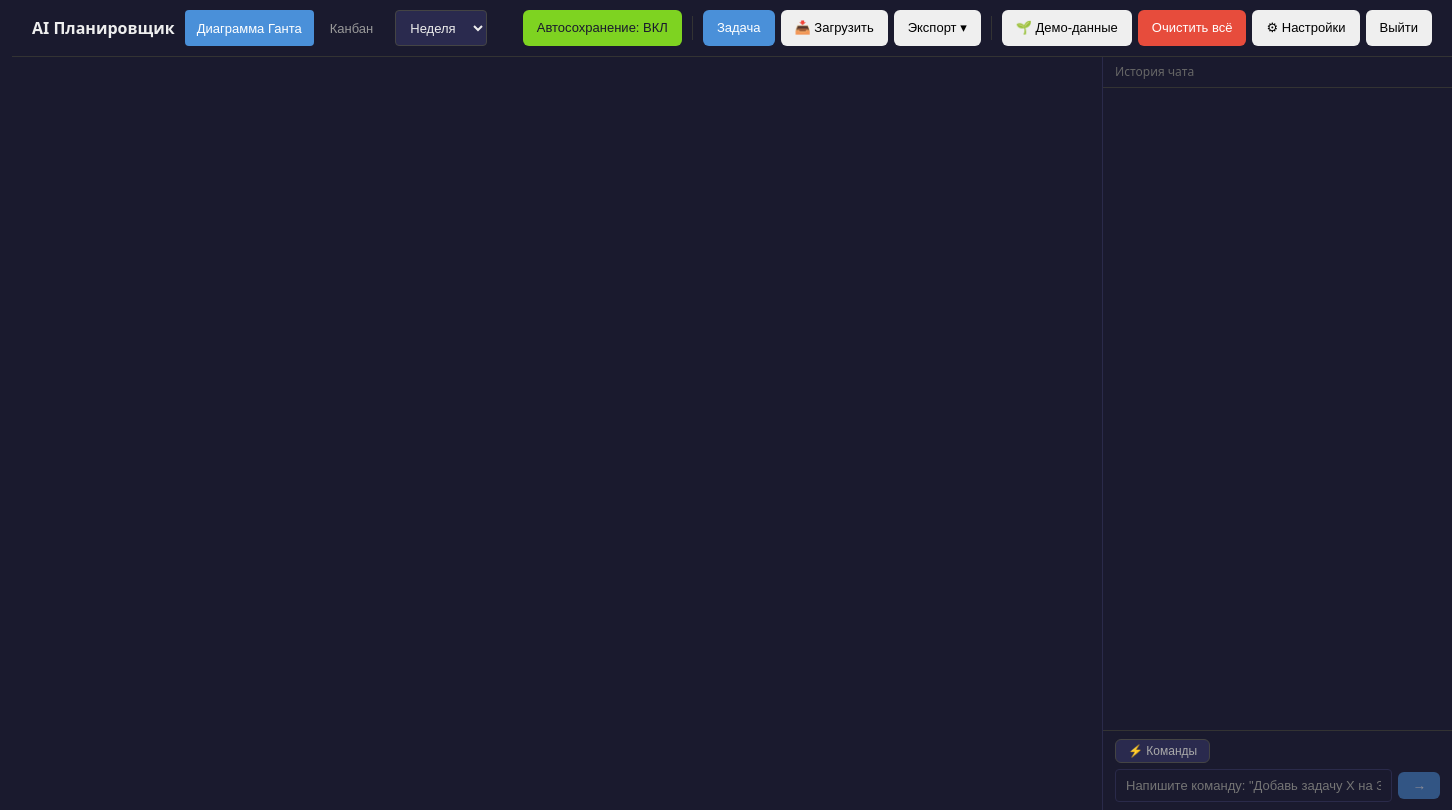
test_chat_flow › sends message and shows user bubble
Type "Добавь задачу" into the field with placeholder "Напишите команду: \"Добавь задачу X на 3 дня после Y\"" at (1254, 786), box [1115,769,1392,802]
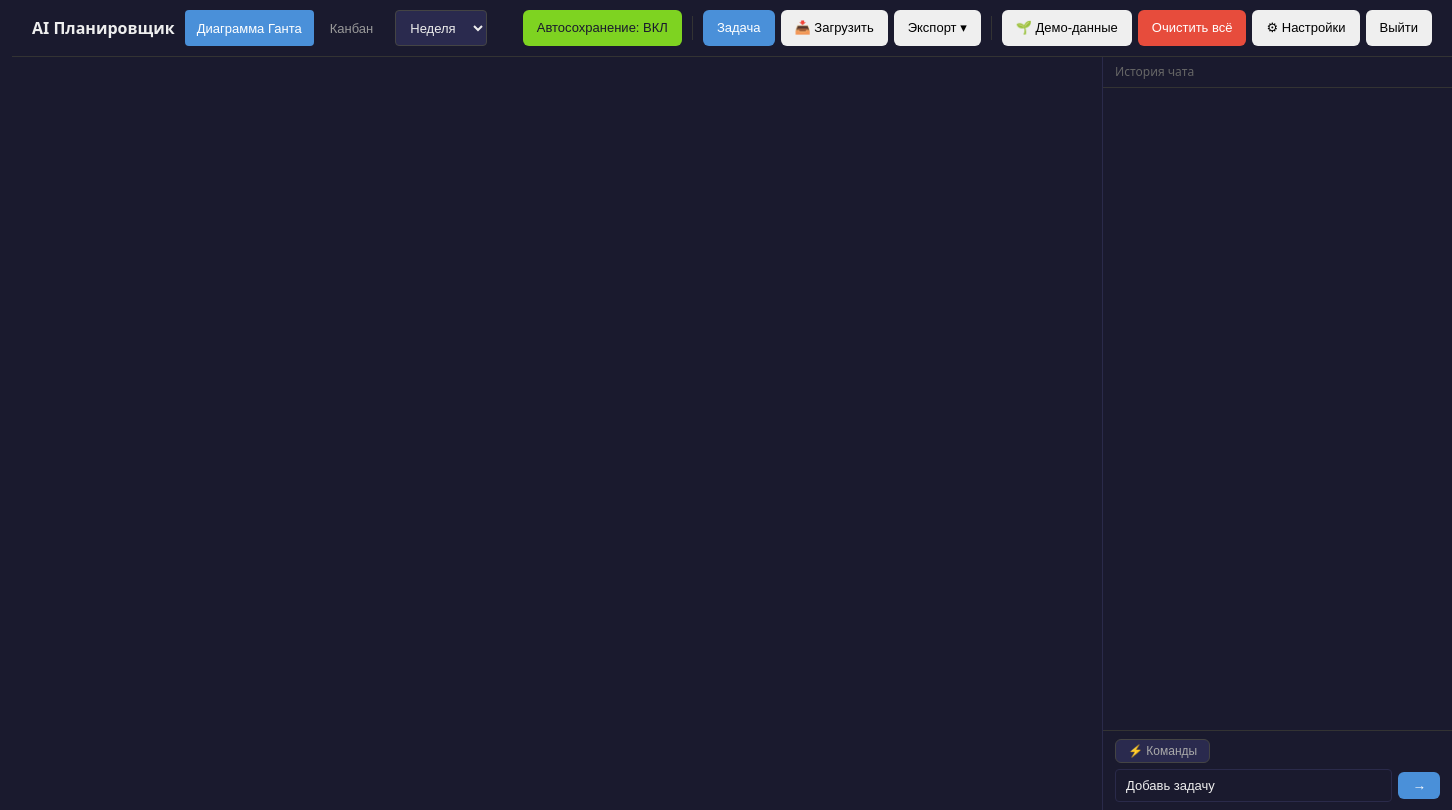
Click the button "→" at (1419, 786), box [1398,772,1440,799]
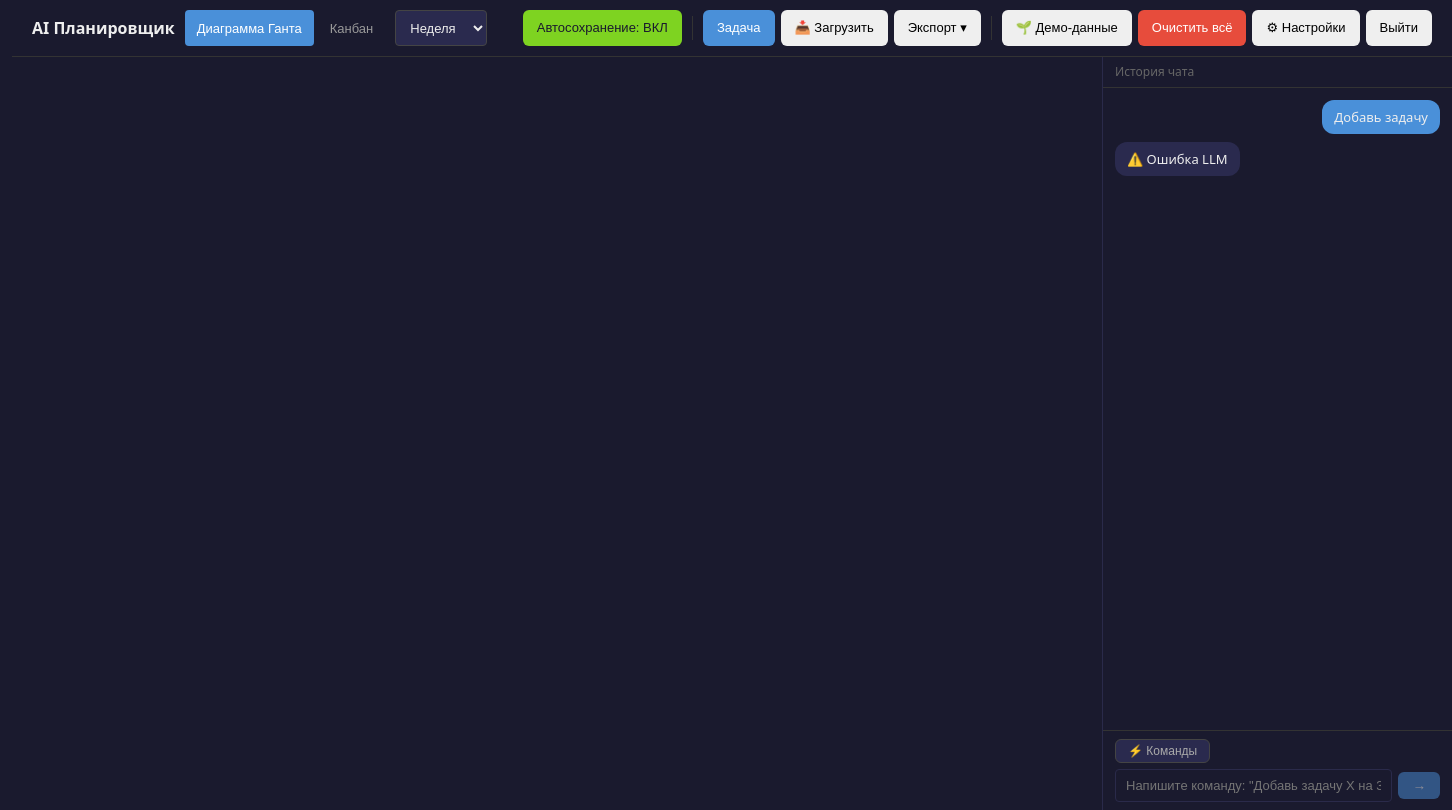
Expected: the text "Добавь задачу" is shown, [1334,108,1428,126]
